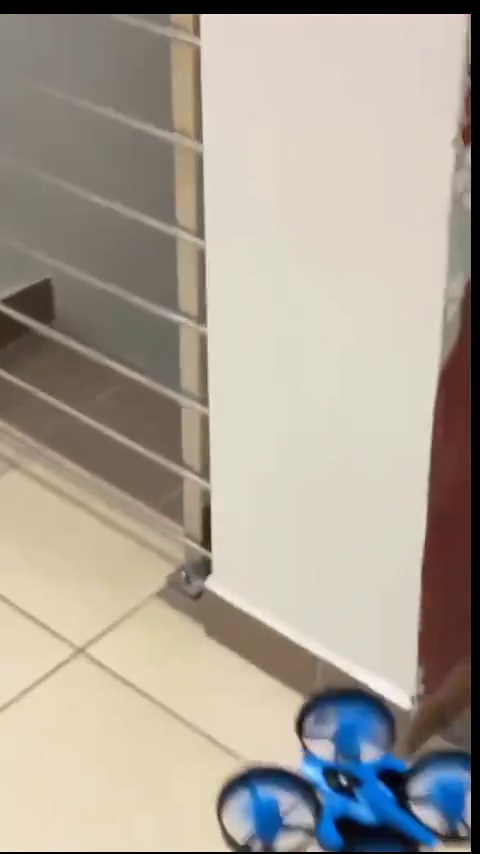drone: (215, 688, 469, 853)
